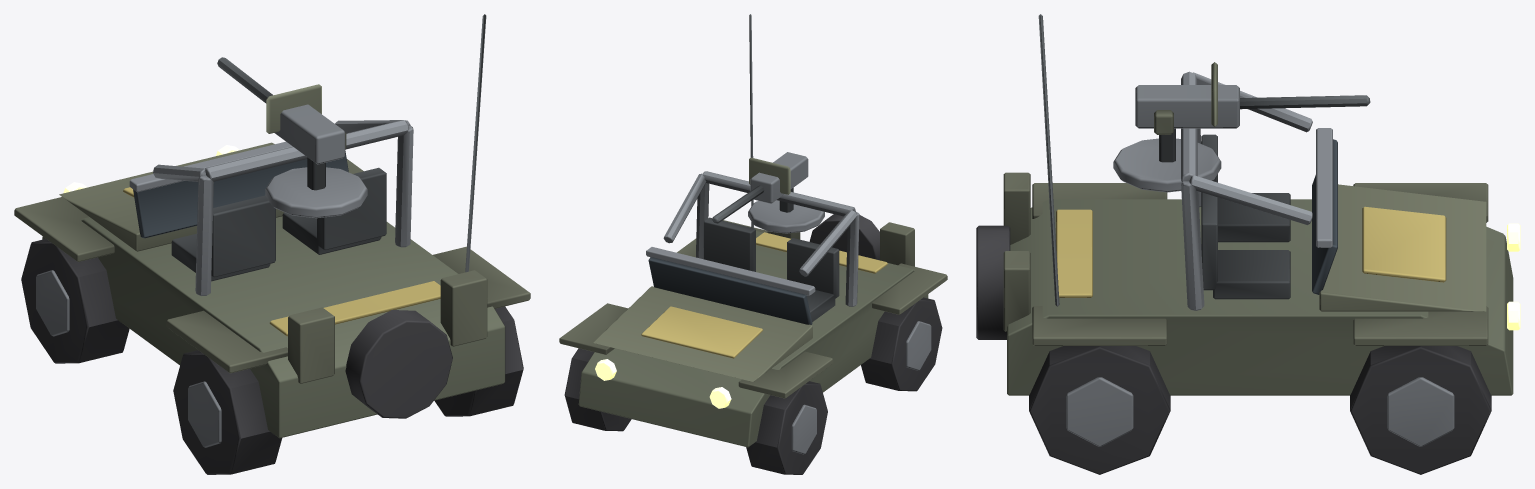
File: scout_vehicle.glb
The picture shows the model from 3 angles, left to right: view 1: azimuth 30°, elevation 25°; view 2: azimuth 150°, elevation 25°; view 3: azimuth 270°, elevation 25°; orthographic projection. The views are drawn at different scales.
Parts seen in each view (by area): view 1: Body, Turret; view 2: Body, Turret; view 3: Body, Turret.
Boxes of the visible parts, x1=… form: Body: x1=14, y1=14, x2=530, y2=474; Turret: x1=217, y1=57, x2=367, y2=218; Body: x1=559, y1=14, x2=947, y2=474; Turret: x1=712, y1=152, x2=824, y2=233; Body: x1=976, y1=14, x2=1520, y2=474; Turret: x1=1113, y1=62, x2=1370, y2=192.
Size of the model in its own units: 2.18 by 2.9 by 3.22.
